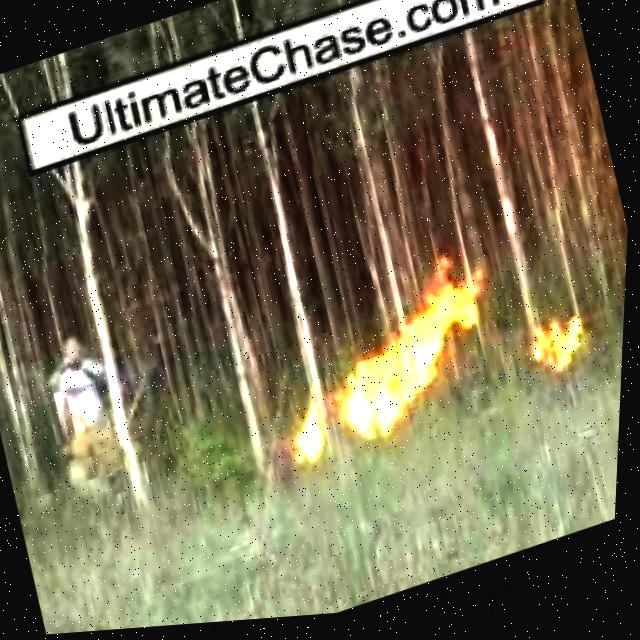Fire: (313, 247, 527, 454), (528, 313, 600, 402), (280, 400, 348, 479)
